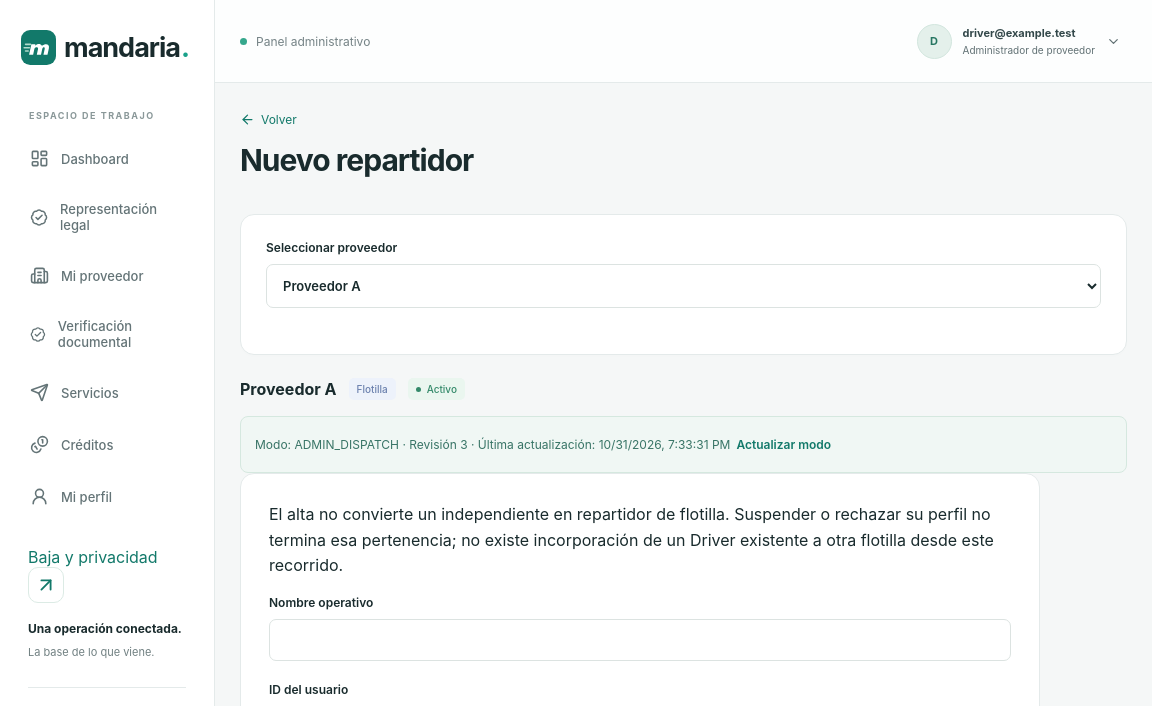
it: drivers › reports a concurrent capacity conflict while preserving form data
Type "Carlos" into the field labelled "Nombre operativo". click: (640, 640)
box: [269, 619, 1011, 661]
(page scrolled)
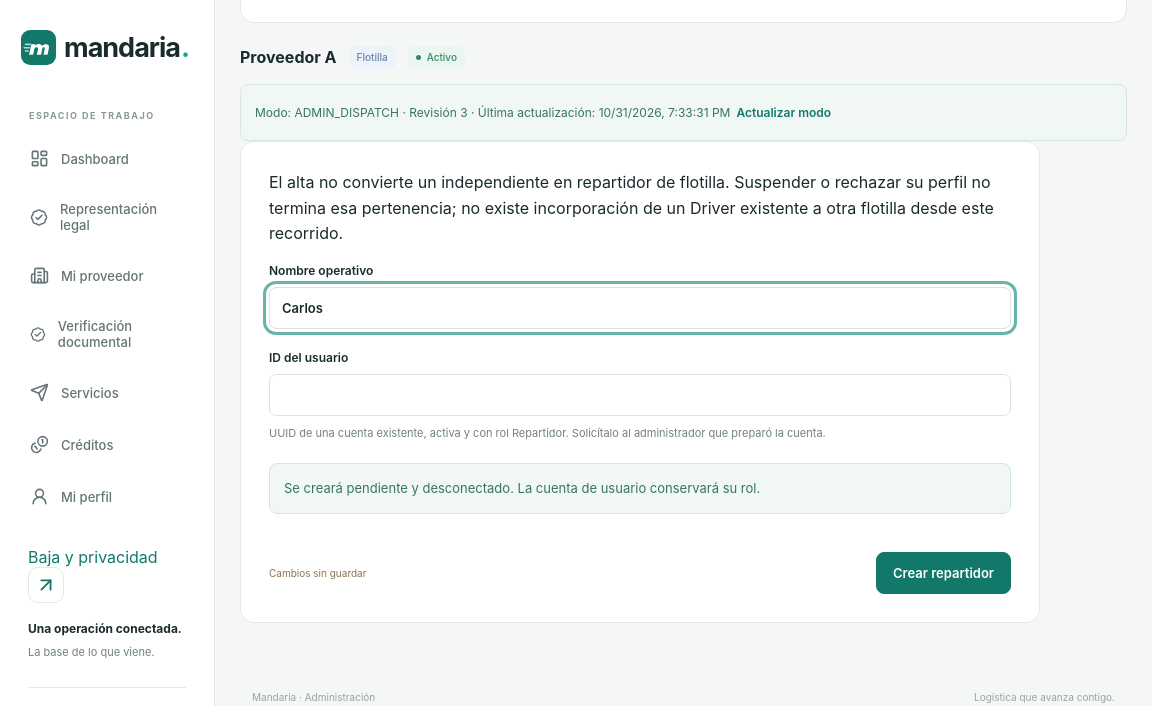
Type "00000000-0000-4000-8000-000000000001" into the field labelled "ID del usuario". click: (640, 395)
box: [269, 374, 1011, 416]
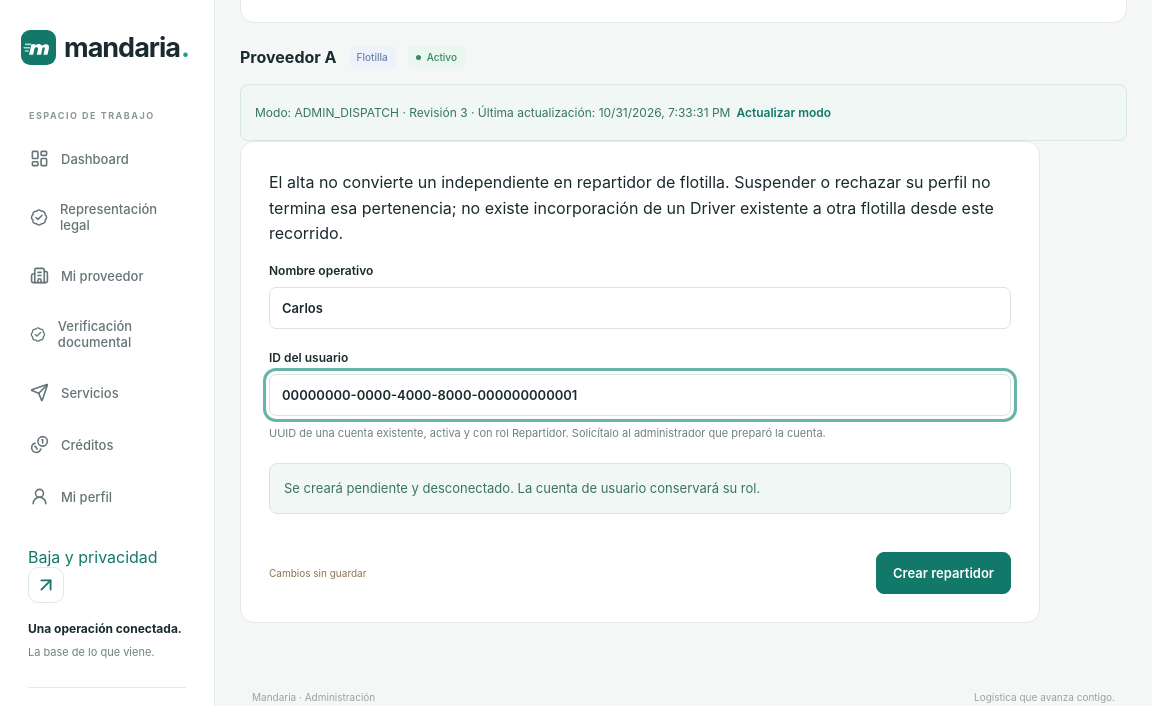
Click the button "Crear repartidor". click: click(944, 573)
box: [876, 552, 1011, 594]
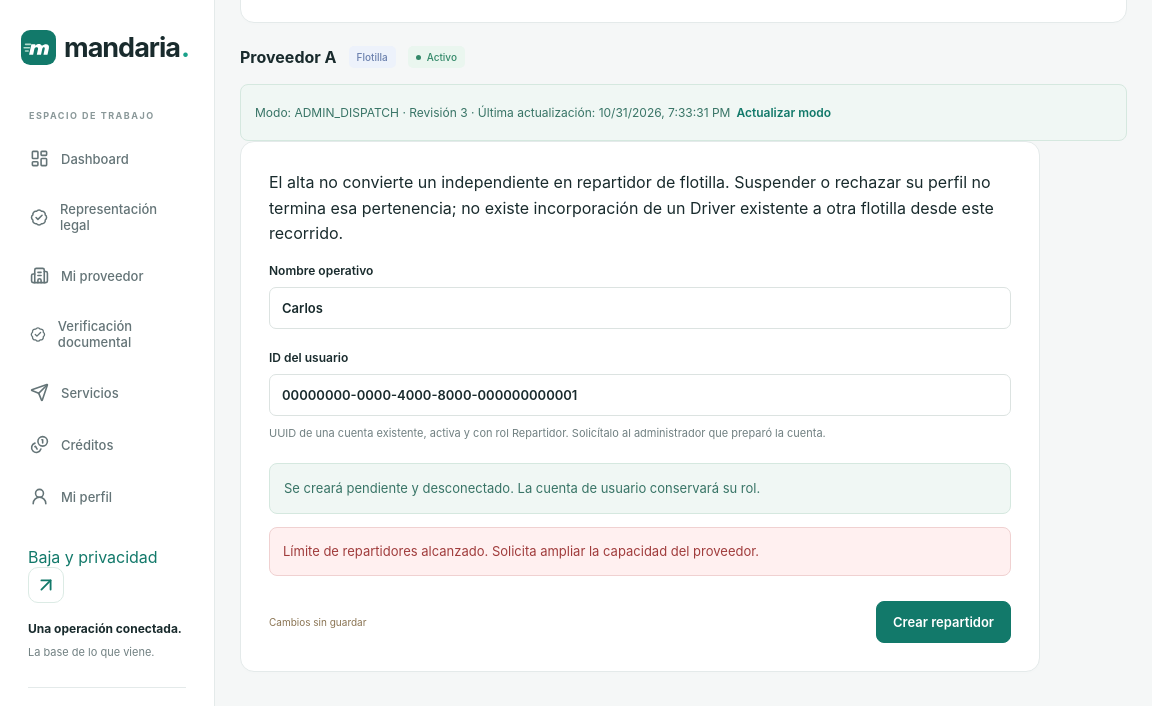
expect the message "Límite de repartidores alcanzado. Solicita ampliar la capacidad del proveedor." is shown: met, box [269, 527, 1011, 576]
